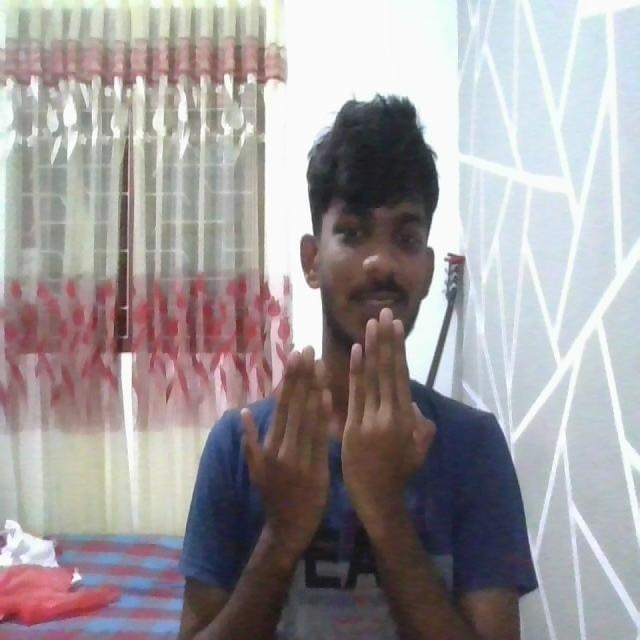ThankYou: (187, 299, 527, 640)
